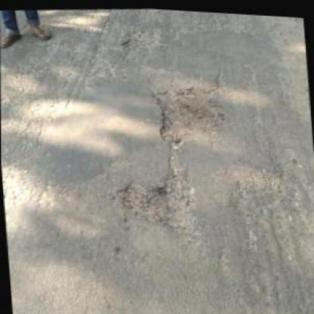Hueco: (153, 78, 230, 148), (121, 168, 198, 238)
